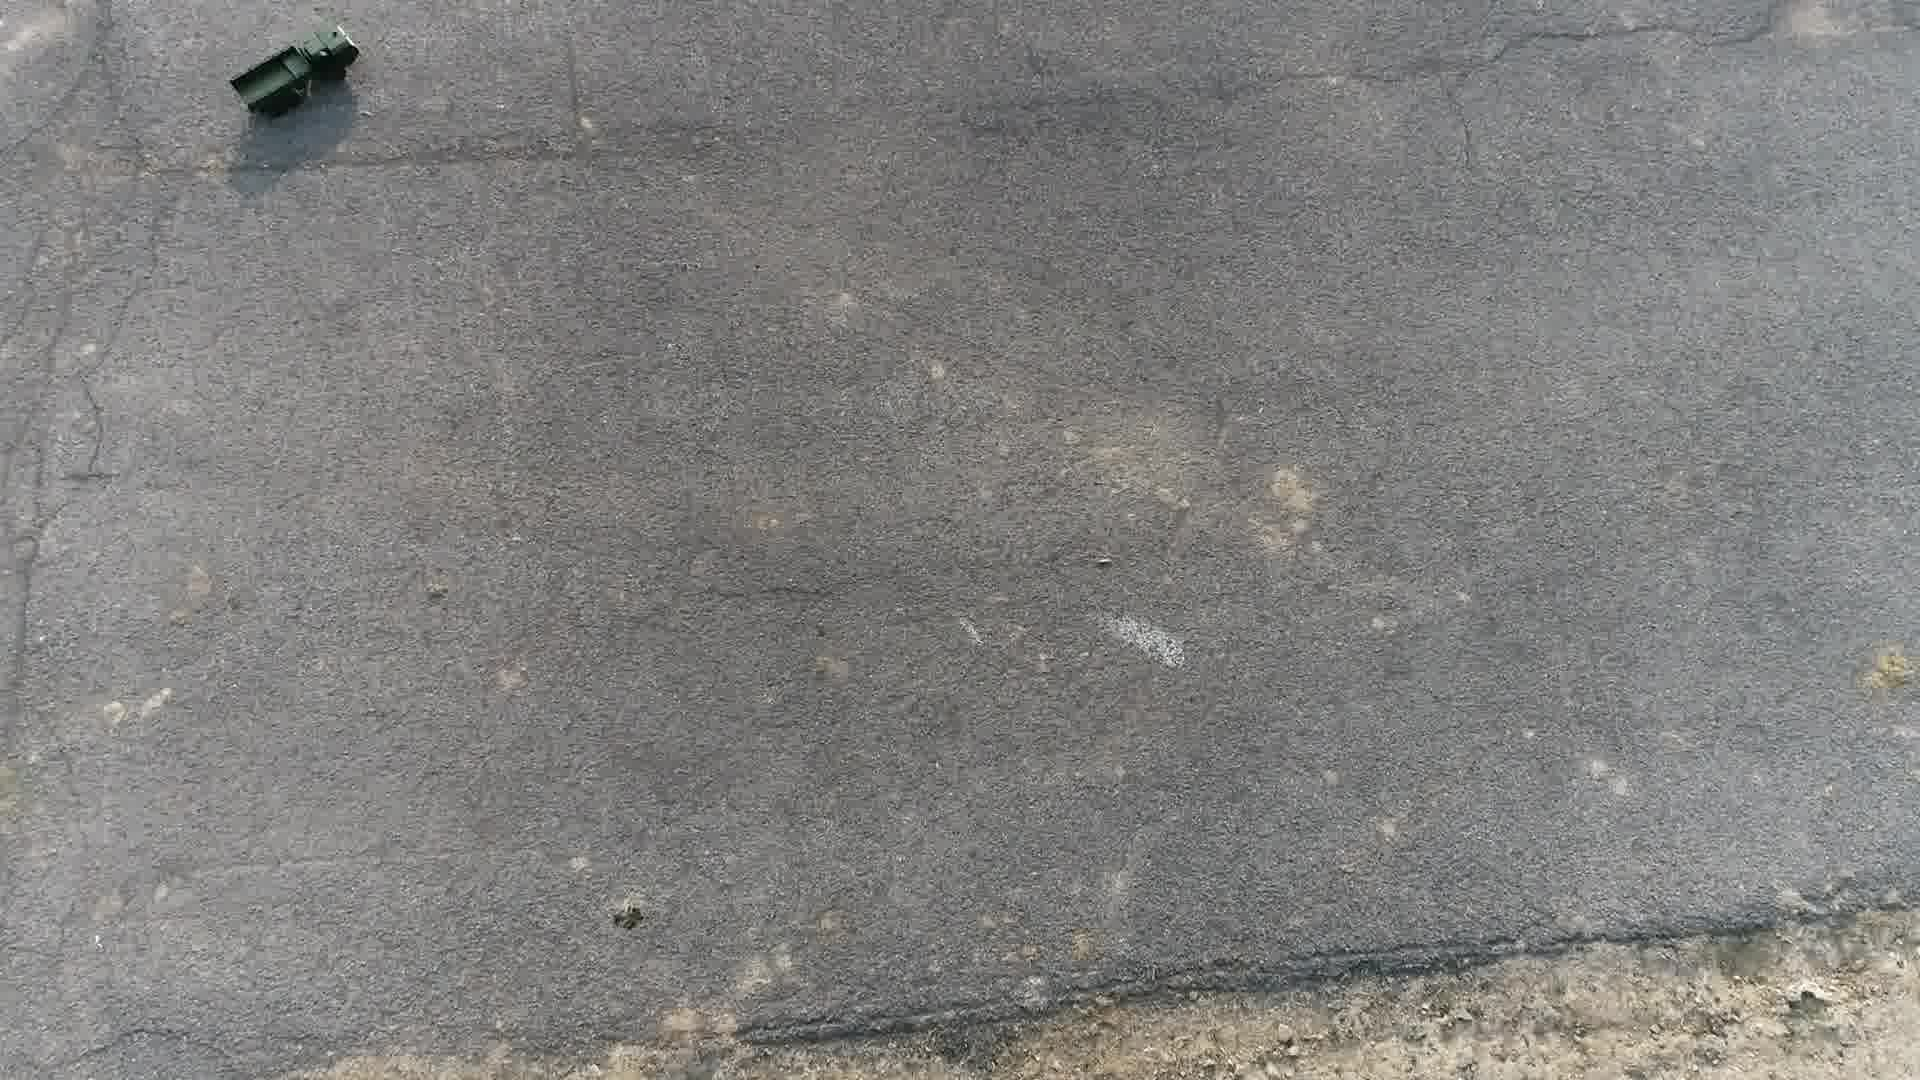transporter9: (212, 22, 363, 120)
